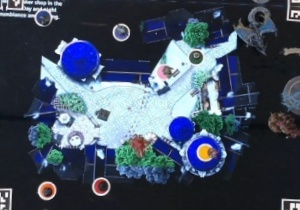blue: (33, 6, 55, 27)
green: (185, 47, 203, 66)
orange: (36, 178, 57, 201)
pink: (156, 64, 173, 80)
red: (88, 174, 112, 197)
violet: (108, 20, 131, 42)
yellow: (195, 142, 217, 162)
